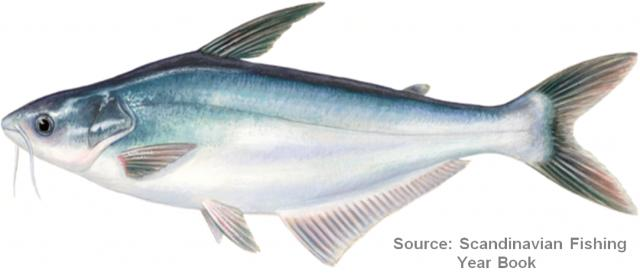Mulut: (0, 102, 36, 152)
Sirip Anal: (283, 150, 472, 268)
Sirip Dada: (108, 141, 210, 183)
Sirip Ekor: (526, 44, 640, 224)
Sirip Perut: (190, 190, 274, 262)
Sirip Punggung: (192, 1, 332, 76)
